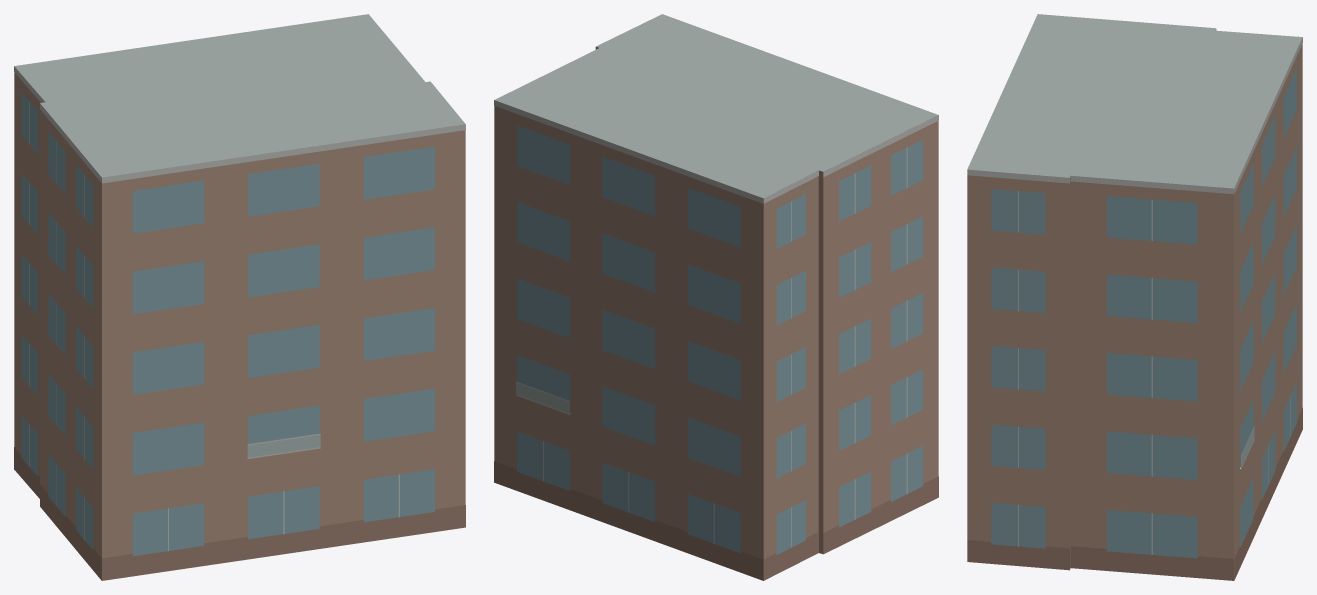
The model's file is survey-upis-32521342.glb.
3 renders of one model, left to right at view 1: azimuth 30°, elevation 25°; view 2: azimuth 150°, elevation 25°; view 3: azimuth 270°, elevation 25°, orthographic. The views are drawn at different scales.
Visible parts, largest first — view 1: survey-upis-32521342.tmp; view 2: survey-upis-32521342.tmp; view 3: survey-upis-32521342.tmp.
Boxes of the visible parts, x1,y1,x2,y2 form: survey-upis-32521342.tmp: [14, 14, 465, 580]; survey-upis-32521342.tmp: [494, 14, 938, 580]; survey-upis-32521342.tmp: [967, 14, 1302, 580].
Bounding box in the file's own units: 16.04 × 16.8 × 13.04.
